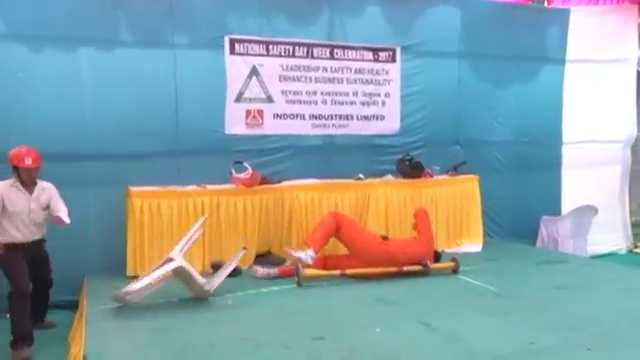helmet: (7, 146, 43, 169)
helmet_on: (6, 145, 43, 189)
person: (1, 146, 72, 360), (251, 208, 444, 280)
